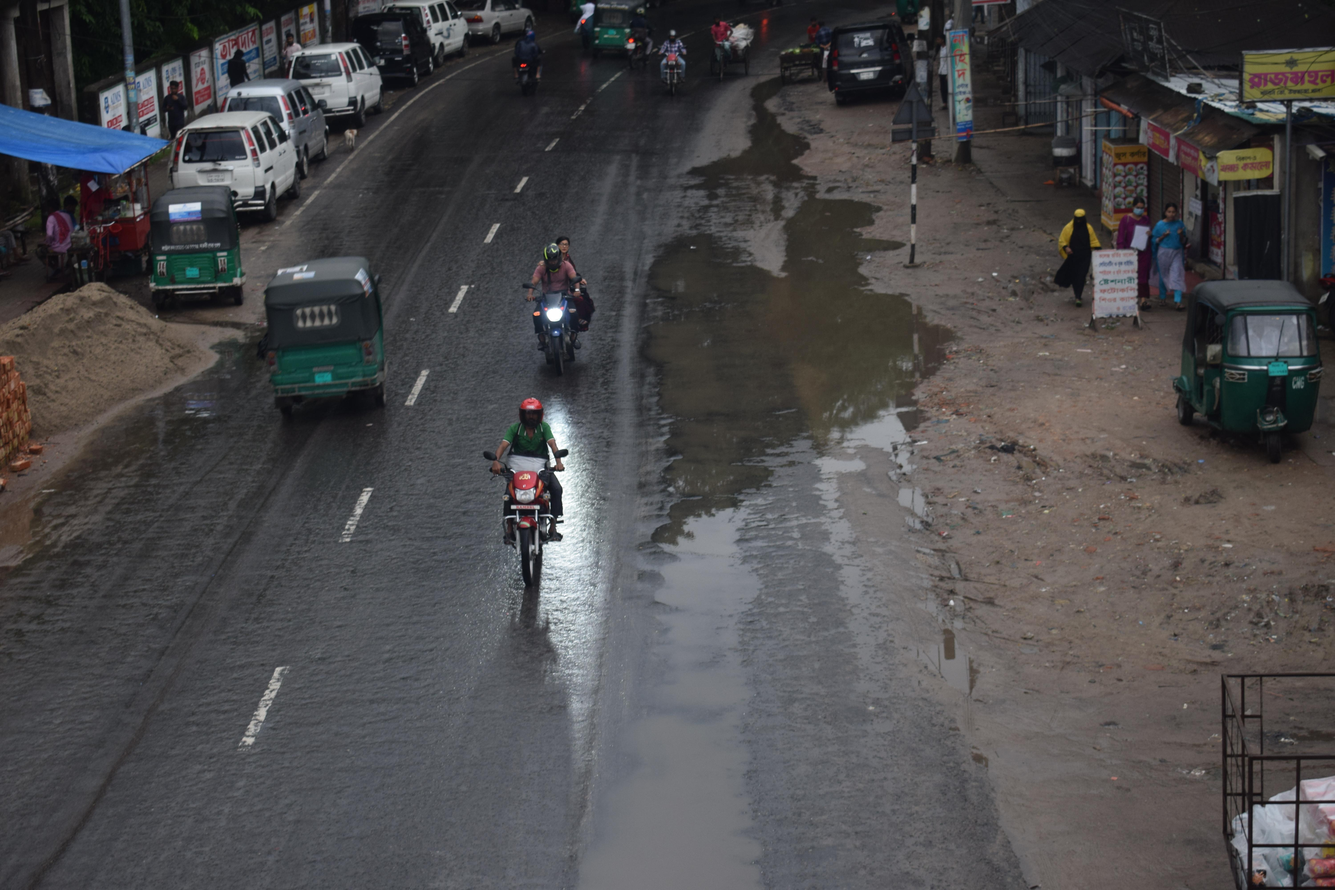Bike: (467, 371, 651, 640), (489, 202, 649, 395), (487, 11, 560, 106), (654, 25, 701, 104)
Car: (163, 101, 328, 234), (216, 53, 362, 181), (264, 26, 407, 131), (807, 6, 939, 119)
